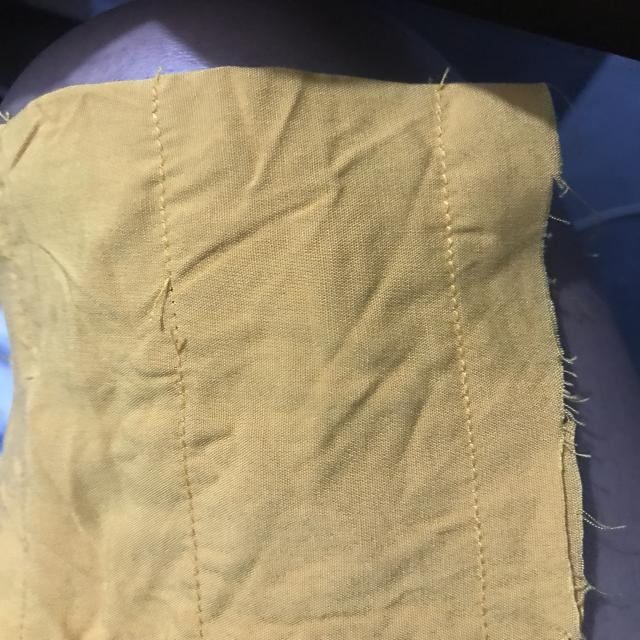broken: (138, 259, 200, 361)
good: (430, 186, 480, 351)
